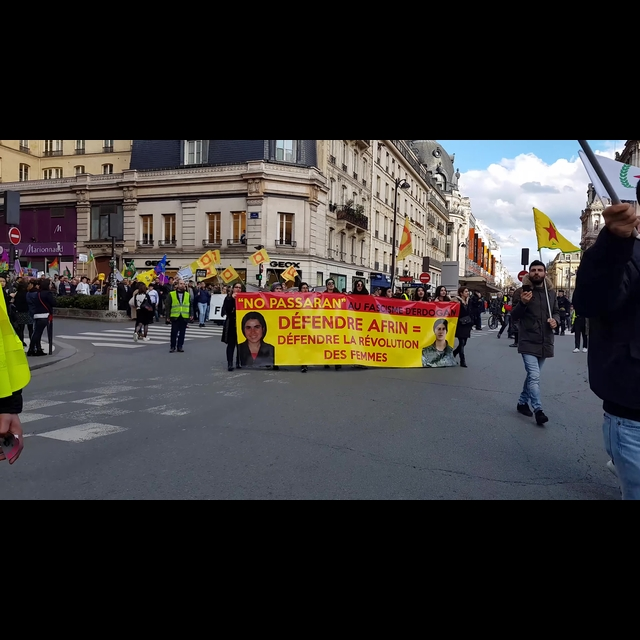YPG: (528, 207, 582, 254)
